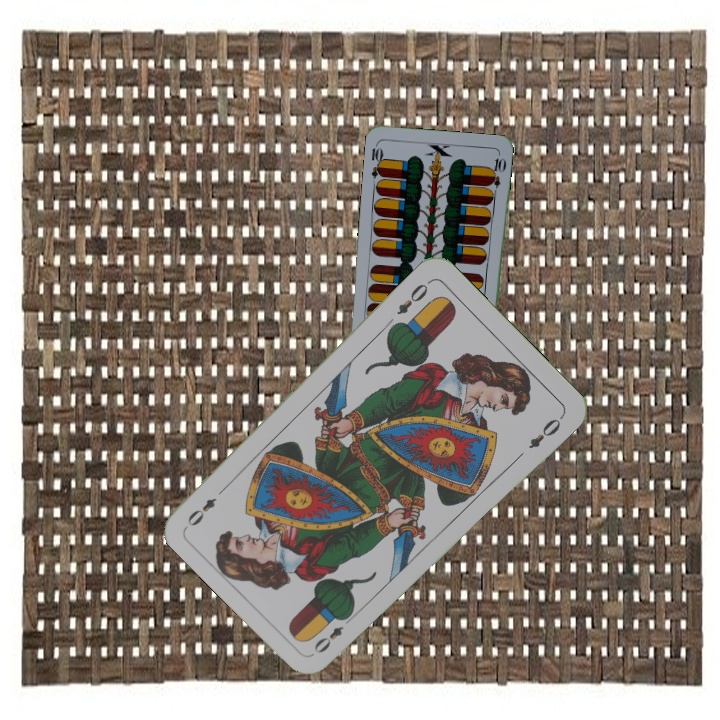E10: (367, 140, 387, 180)
EO: (309, 610, 356, 657), (392, 276, 433, 318)
